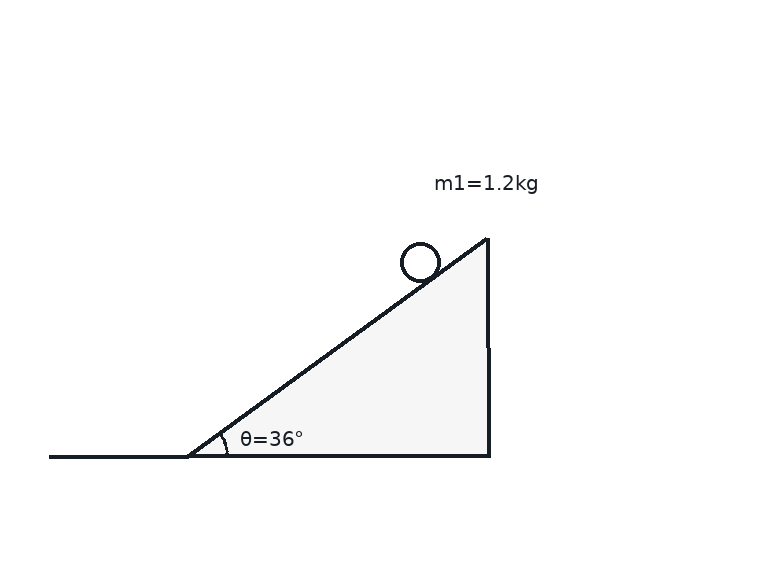ball: (398, 240, 442, 284)
ramp: (185, 235, 490, 458)
